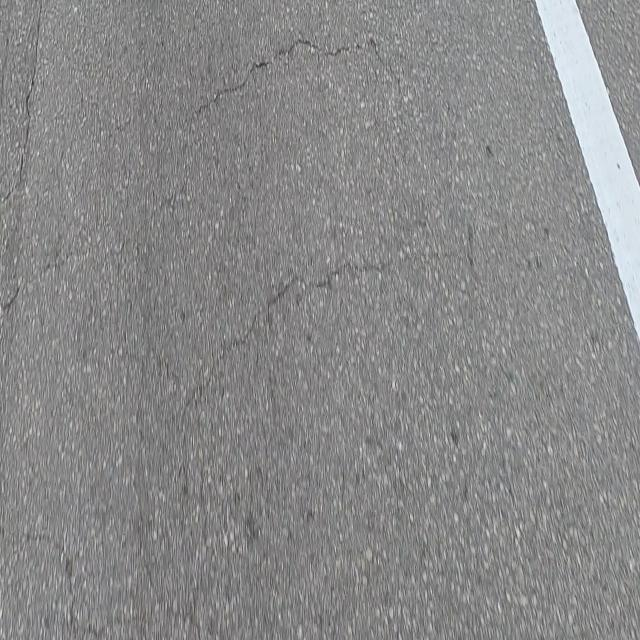Retak-Melintang: (194, 260, 400, 394), (195, 33, 402, 113)
Retak-Memanjang: (16, 0, 43, 184)
